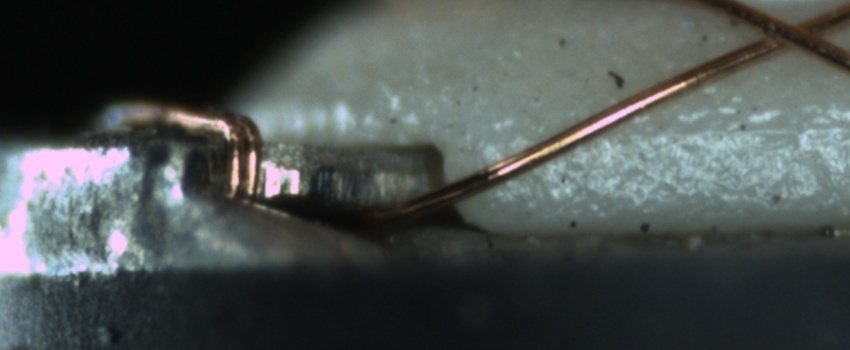CL: (744, 3, 839, 58)
DL: (614, 98, 849, 162)
TE: (112, 99, 267, 206)
